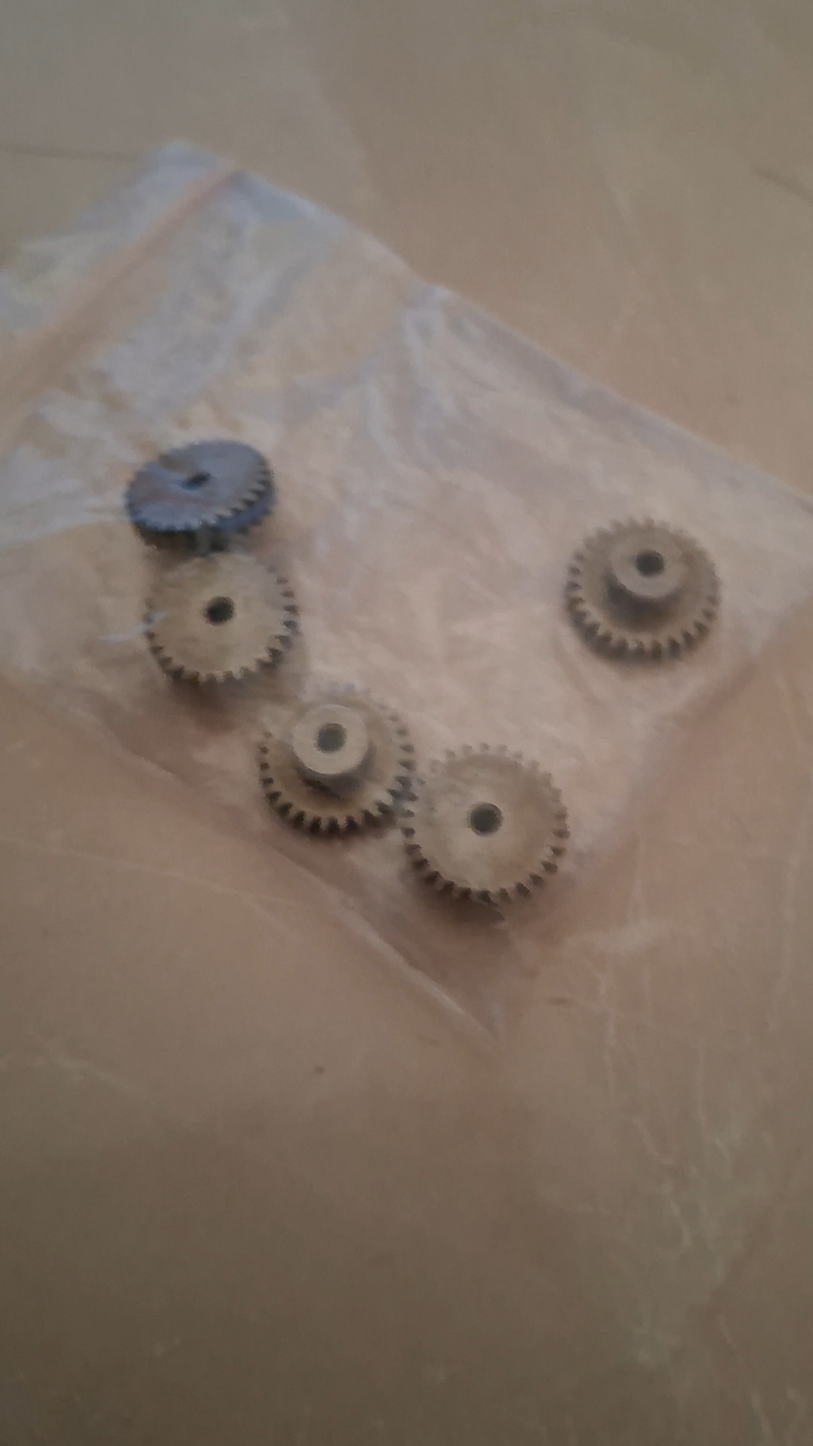spur gear: (399, 746, 568, 903), (259, 688, 414, 833), (565, 521, 719, 659), (146, 552, 297, 682), (126, 439, 274, 545)
